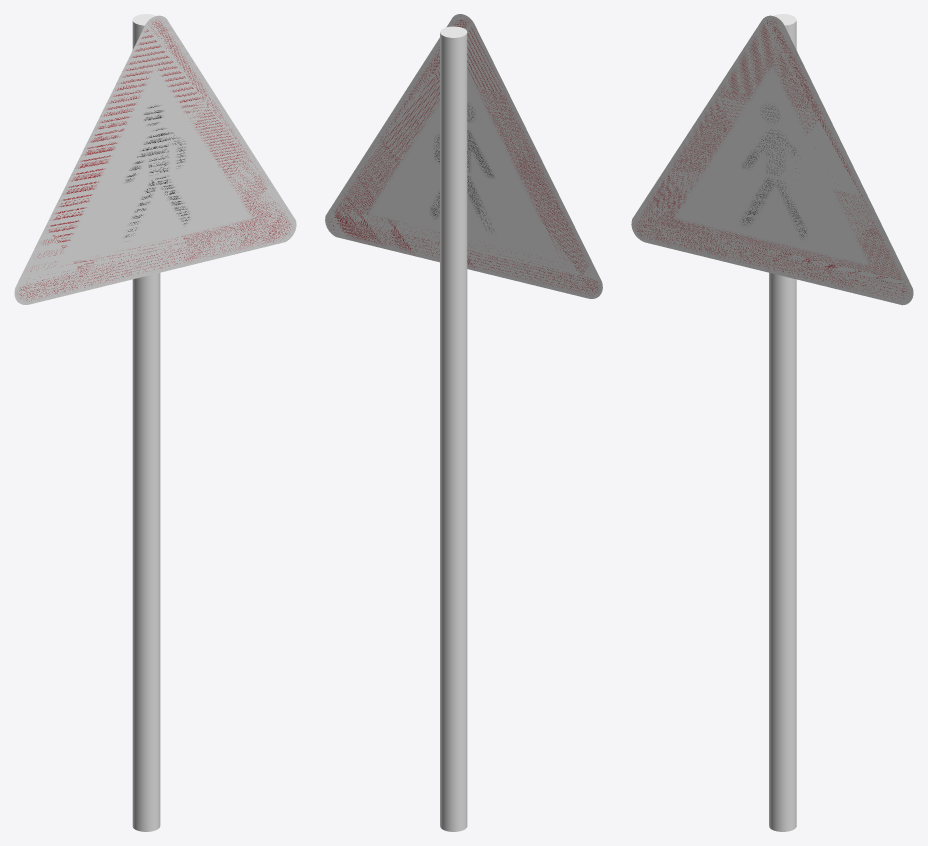
3 views of the same model, side by side, from view 1: azimuth 30°, elevation 25°; view 2: azimuth 150°, elevation 25°; view 3: azimuth 330°, elevation 25° (orthographic).
Parts seen in each view (by area): view 1: SketchUp (×2); view 2: SketchUp (×2); view 3: SketchUp (×2).
Part boxes in pixels (box(x1,y1,x2,y2)): SketchUp (×2): box(14, 14, 296, 831); SketchUp (×2): box(325, 14, 602, 831); SketchUp (×2): box(631, 14, 913, 831).
Size of the model in its own units: 74.22 by 7.6 by 205.
Materials: 2 (1 with a texture image).
